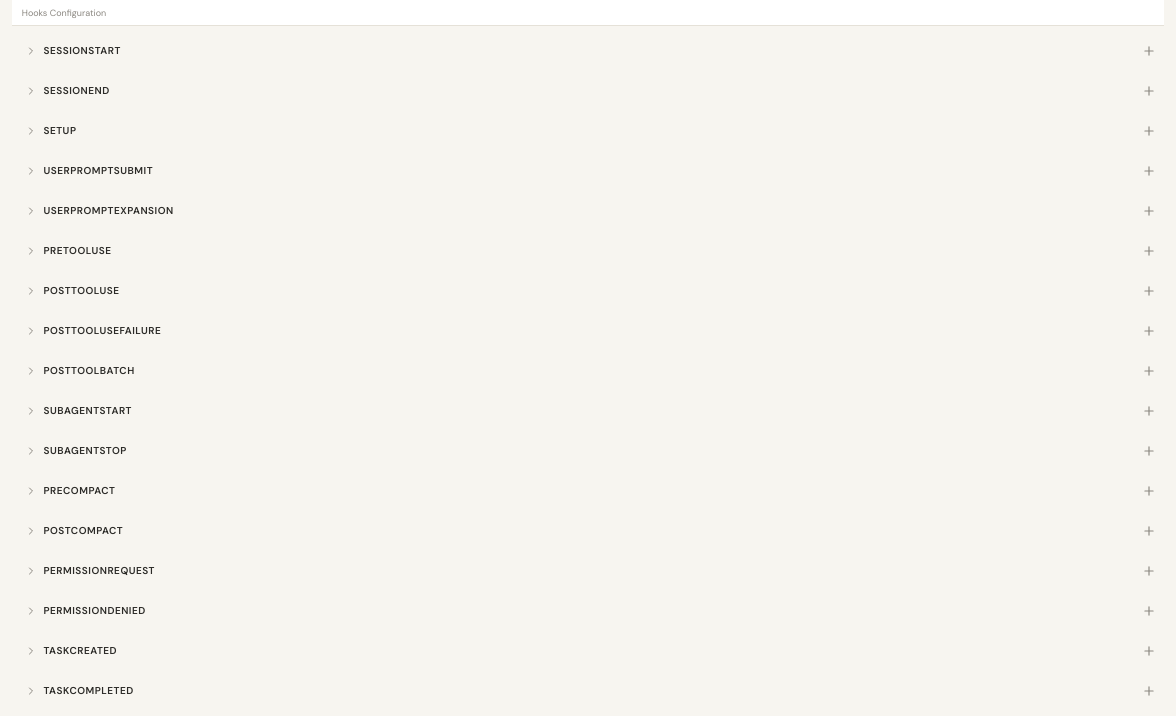
Test: HookEditor › adds a new matcher when add button is clicked
Click the button named "Add hook to PreToolUse".
click(1149, 251)  # box [1137, 239, 1161, 263]
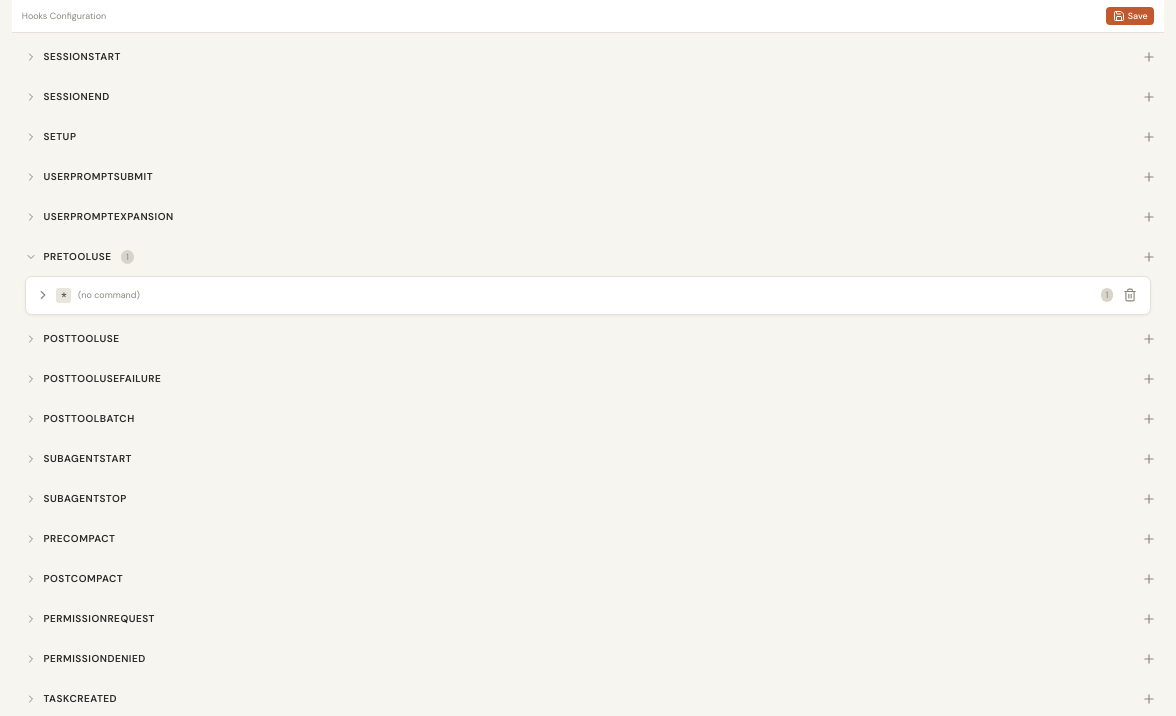
Check: the button named "Delete hook matcher" is shown, box [1120, 285, 1140, 305]
